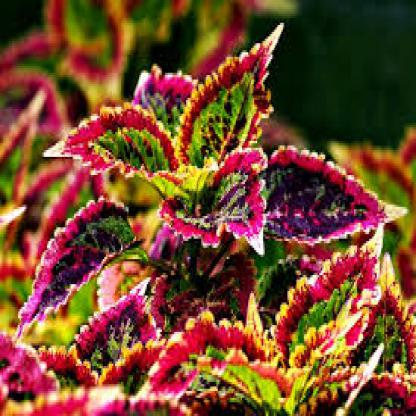Bunga Coleus: (60, 94, 378, 383)
